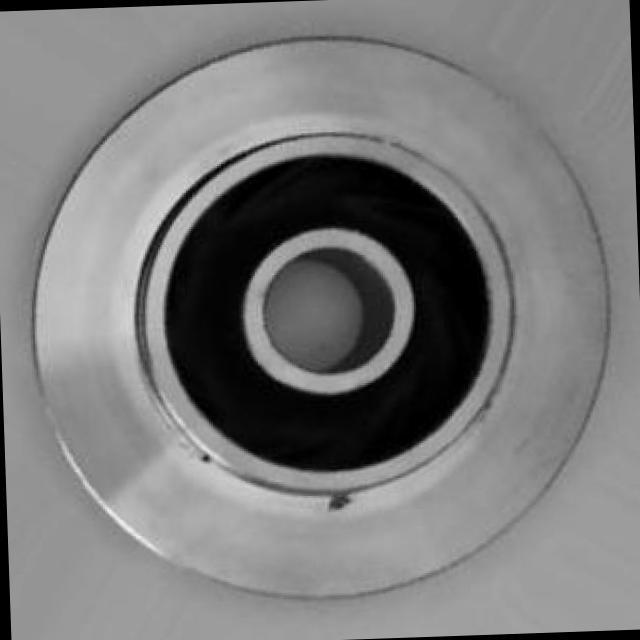Defect: (320, 484, 357, 520)
